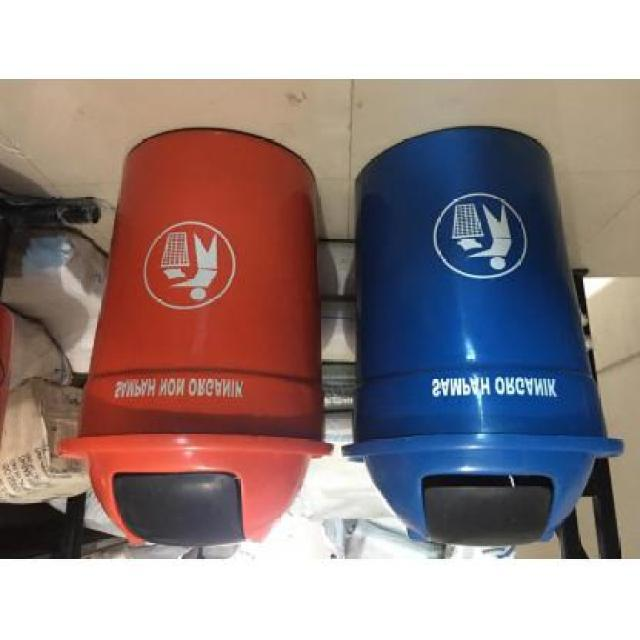garbage container: (340, 116, 637, 552), (54, 121, 337, 555)
